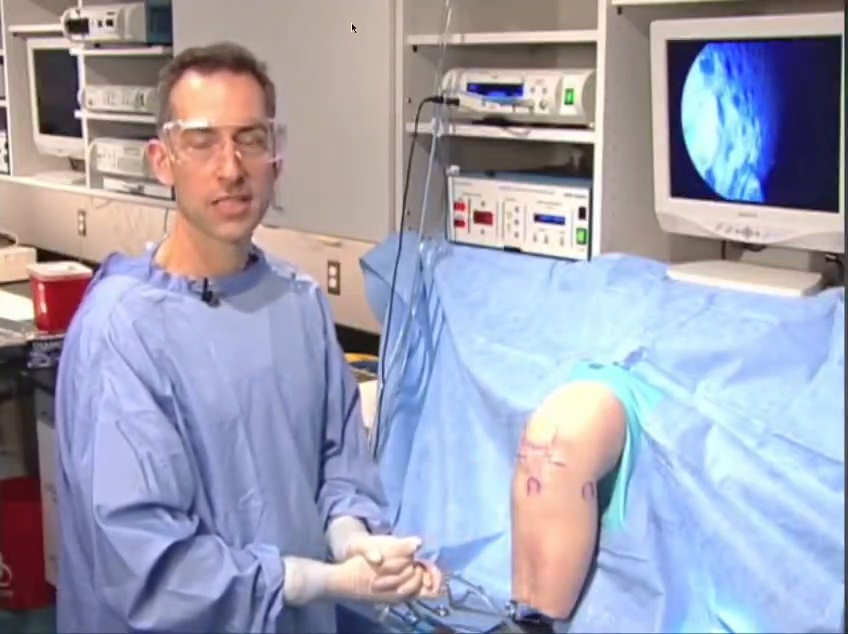probe: (681, 578, 767, 634)
